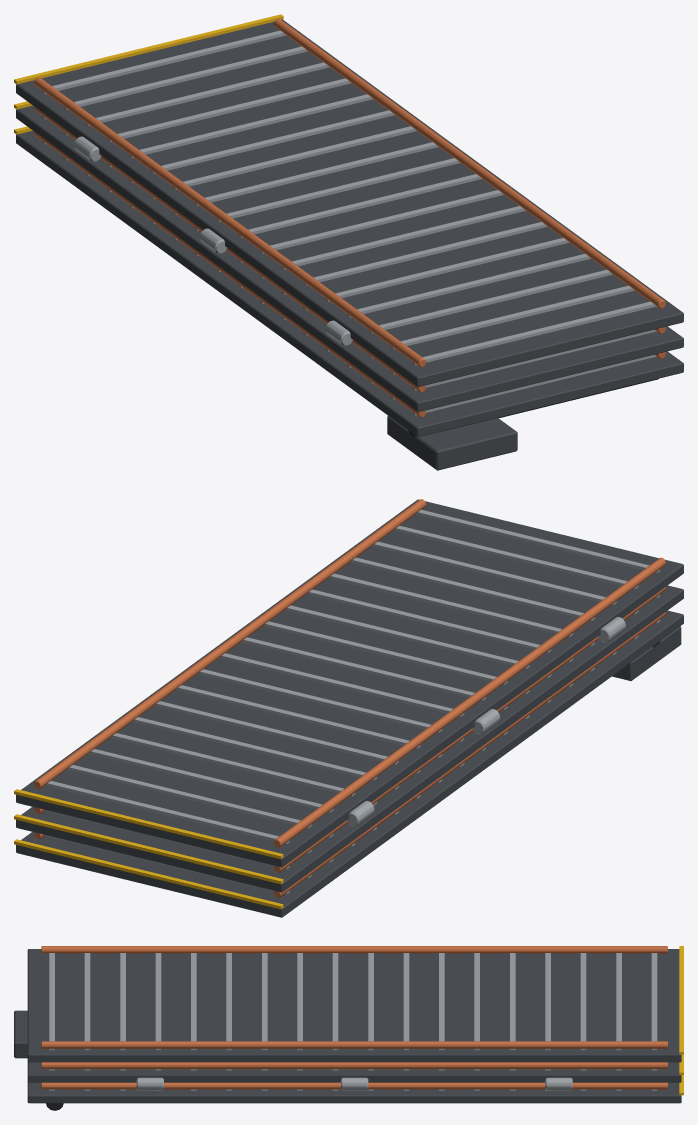
Rendered from folding_radiator.glb.
The picture shows the model from 3 angles, top to bottom: view 1: azimuth 30°, elevation 25°; view 2: azimuth 150°, elevation 25°; view 3: azimuth 270°, elevation 25°; orthographic projection. The views are drawn at different scales.
Visible parts, largest first — view 1: panel_3, base, panel_2; view 2: panel_3, base, panel_2; view 3: panel_3, base, panel_2.
Part boxes in pixels (x1,y1,x2,y2): panel_3: [14, 14, 683, 386]; base: [14, 126, 683, 470]; panel_2: [14, 101, 683, 412]; panel_3: [14, 499, 683, 867]; base: [14, 610, 683, 917]; panel_2: [14, 585, 683, 892]; panel_3: [27, 946, 683, 1062]; base: [14, 1010, 683, 1110]; panel_2: [27, 1054, 683, 1090].
Bounding box in the file's own units: 1.2 × 0.4 × 3.
